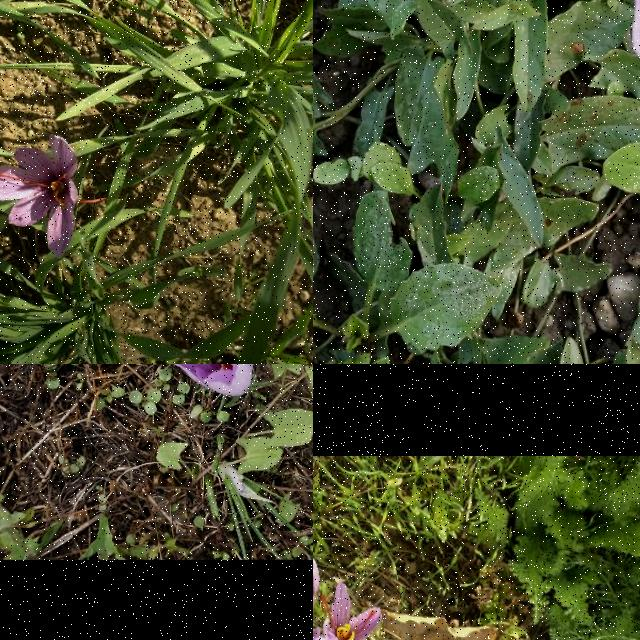flower: (0, 135, 109, 257), (164, 364, 264, 395)
overlap: (313, 585, 382, 640)
